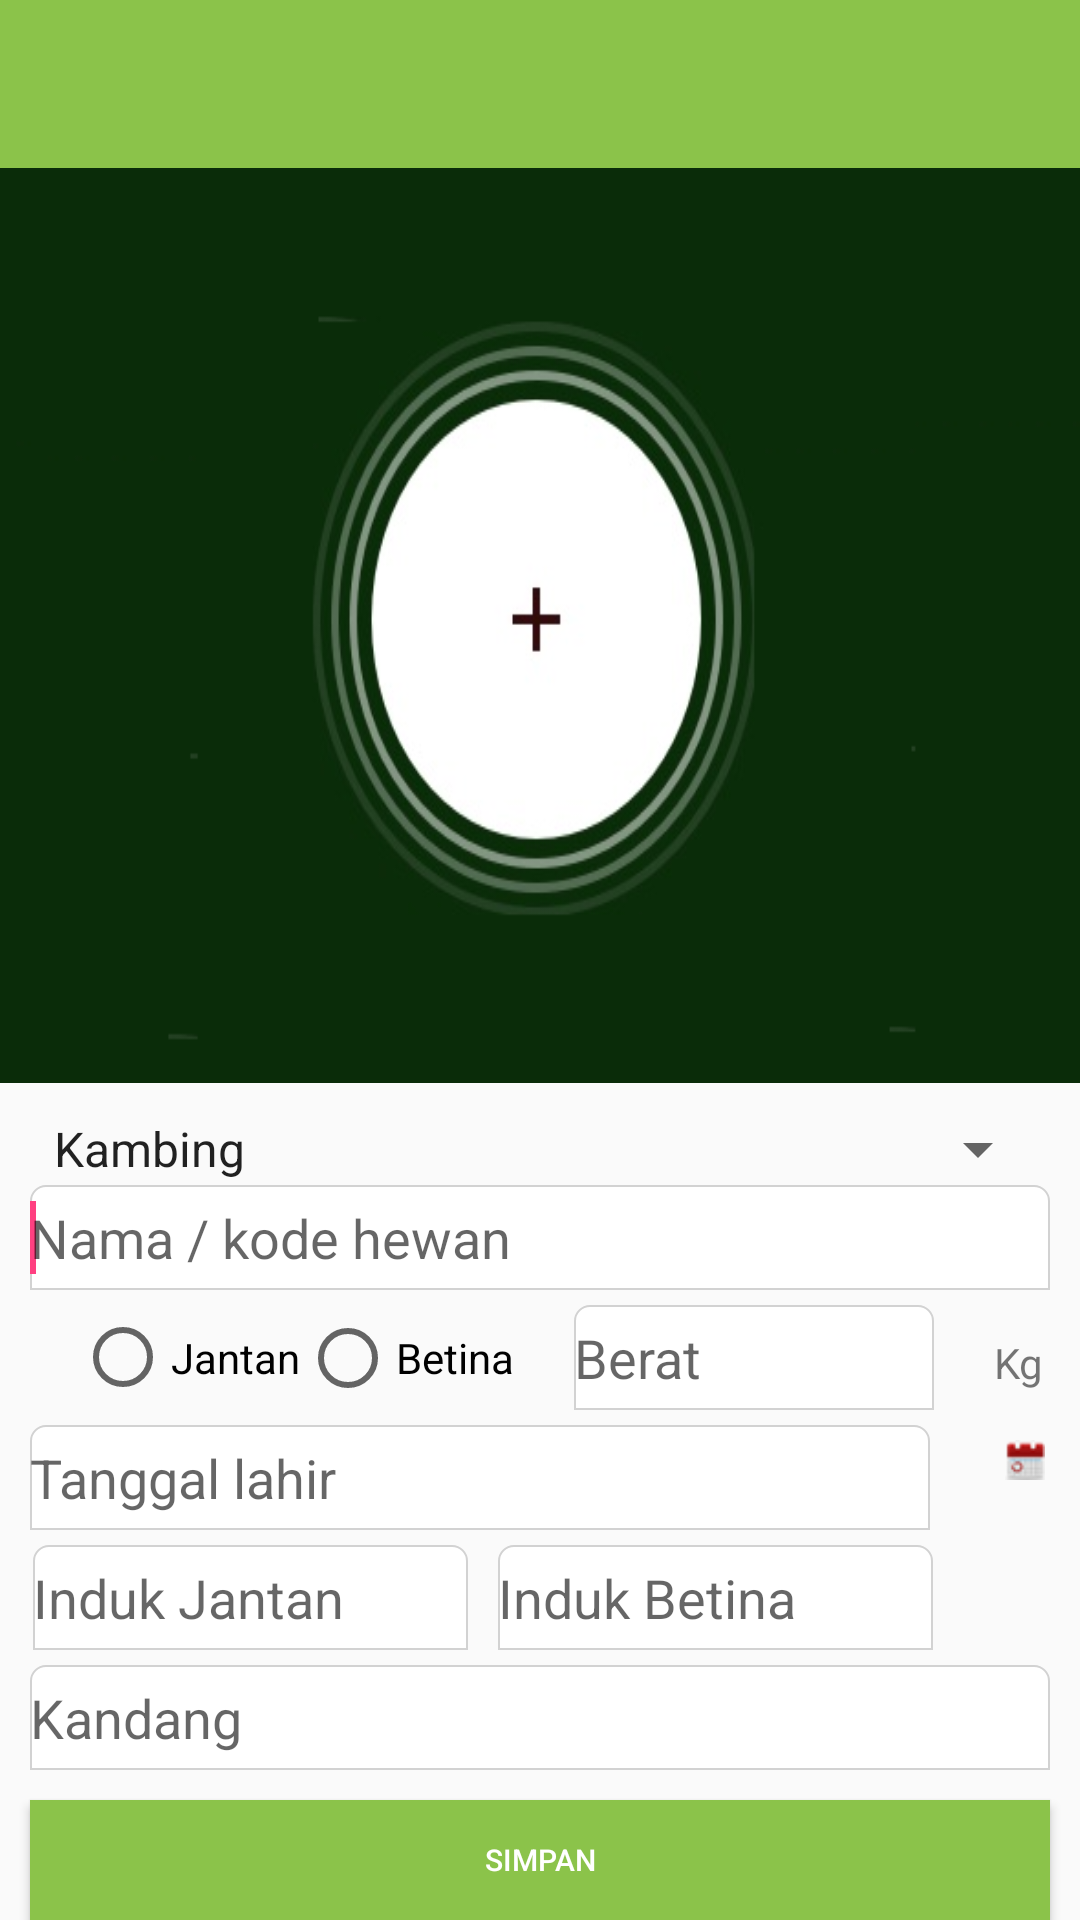

Named icons in this screenshot (1080px x 1920px) and their bounding boxes, (x1=x1, y1=y1, x2=x2, y2=y2):
selectdate: (x1=1006, y1=1442, x2=1045, y2=1480)
